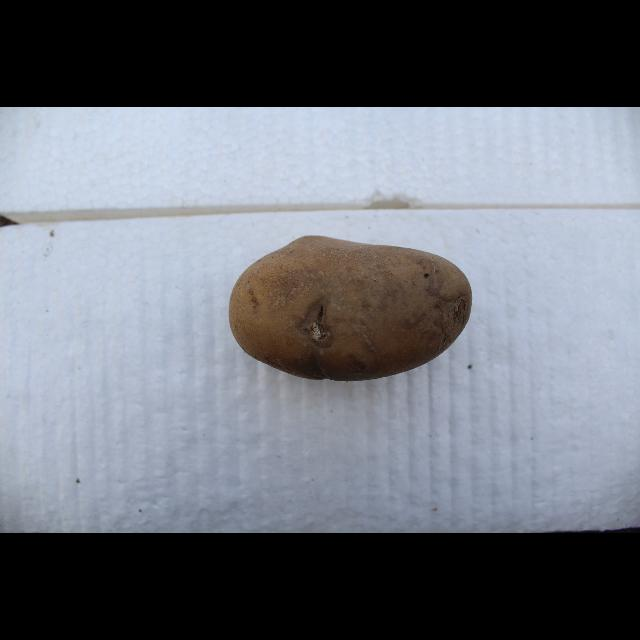Damaged potato: (231, 233, 474, 397)
